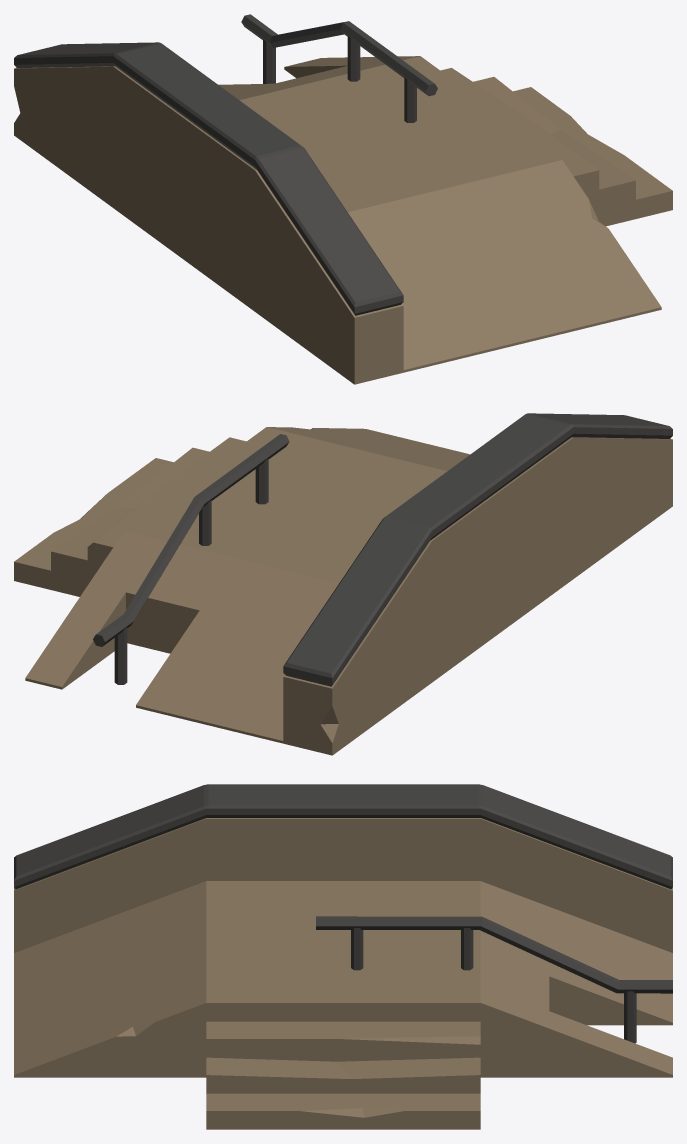
File: SM_Props_City_PlayGround_Skatepark_KinkedRail_01.fbx
The picture shows the model from 3 angles, top to bottom: view 1: azimuth 30°, elevation 25°; view 2: azimuth 150°, elevation 25°; view 3: azimuth 270°, elevation 25°; orthographic projection. The views are drawn at different scales.
Visible parts, largest first — view 1: SM_Props_City_PlayGround_Skatepark_KinkedRail_01; view 2: SM_Props_City_PlayGround_Skatepark_KinkedRail_01; view 3: SM_Props_City_PlayGround_Skatepark_KinkedRail_01.
Part boxes in pixels (x1,y1,x2,y2): SM_Props_City_PlayGround_Skatepark_KinkedRail_01: (14,14,672,384); SM_Props_City_PlayGround_Skatepark_KinkedRail_01: (14,413,672,755); SM_Props_City_PlayGround_Skatepark_KinkedRail_01: (14,784,672,1129).
Bounding box in the file's own units: 340 × 120 × 480.
